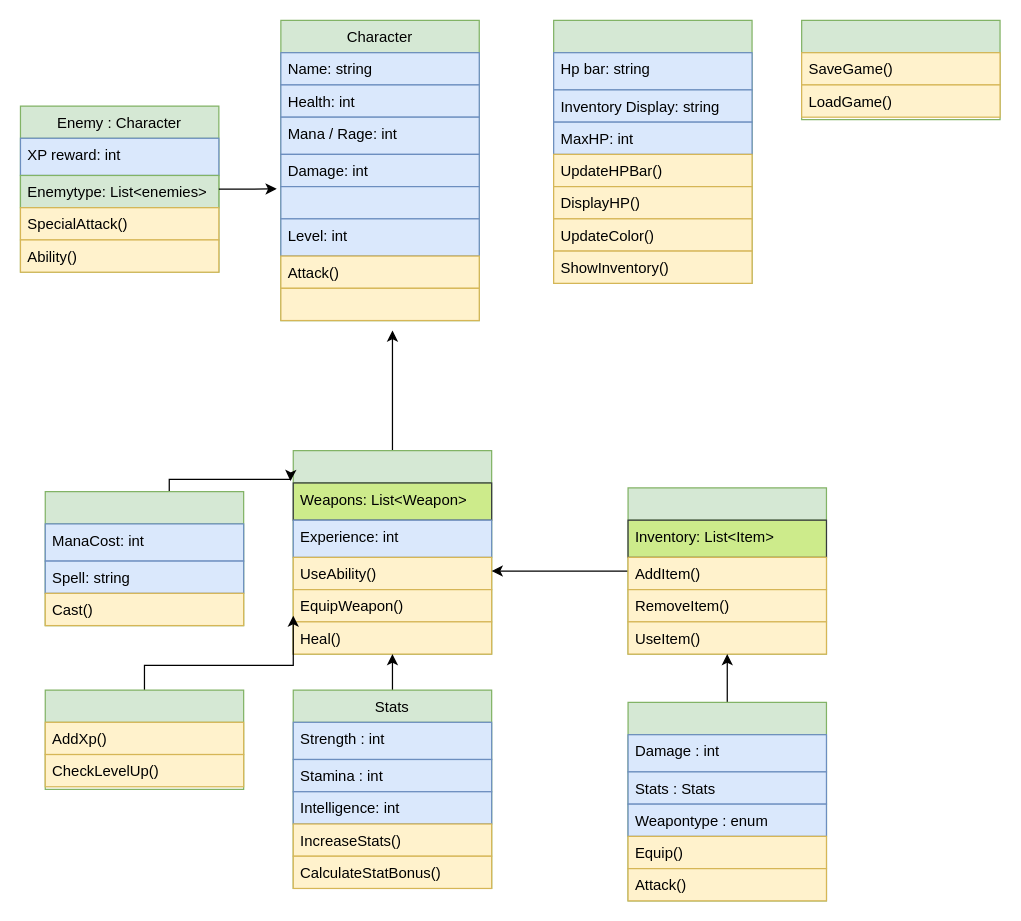
This 1021x921 diagram has some shape labels left out. The box of each missing label's shape, as (x1, y1, x2, y2) in pixels:
Armor: int: (280, 185, 479, 219)
CharacterSpells: (44, 490, 244, 626)
Defend(int damage): (280, 287, 479, 321)
Experience: (44, 689, 244, 789)
Json: (800, 19, 1000, 120)
Loot: (627, 487, 826, 654)
Player : Character: (292, 450, 492, 654)
UI: (552, 19, 752, 283)
Weapons : Loot: (627, 701, 826, 901)
